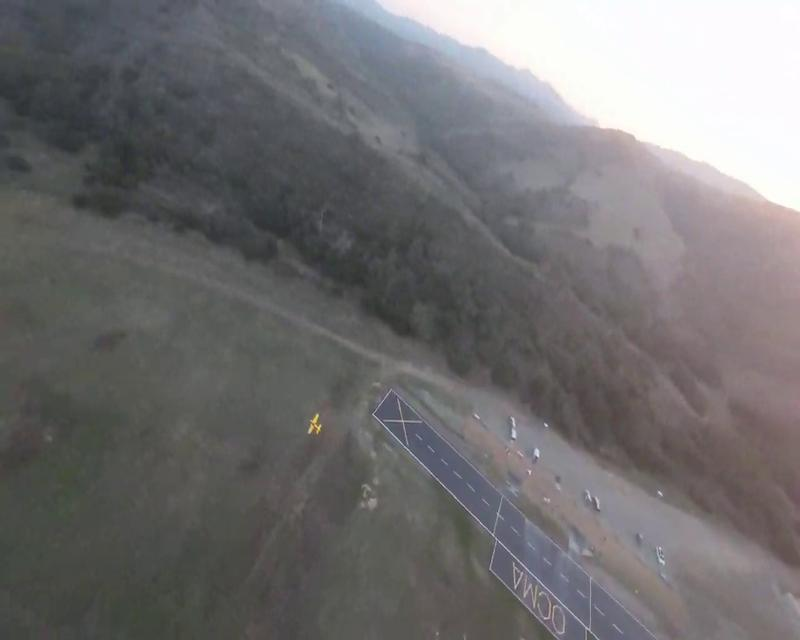UAV: (370, 384, 661, 638), (306, 410, 323, 435)
